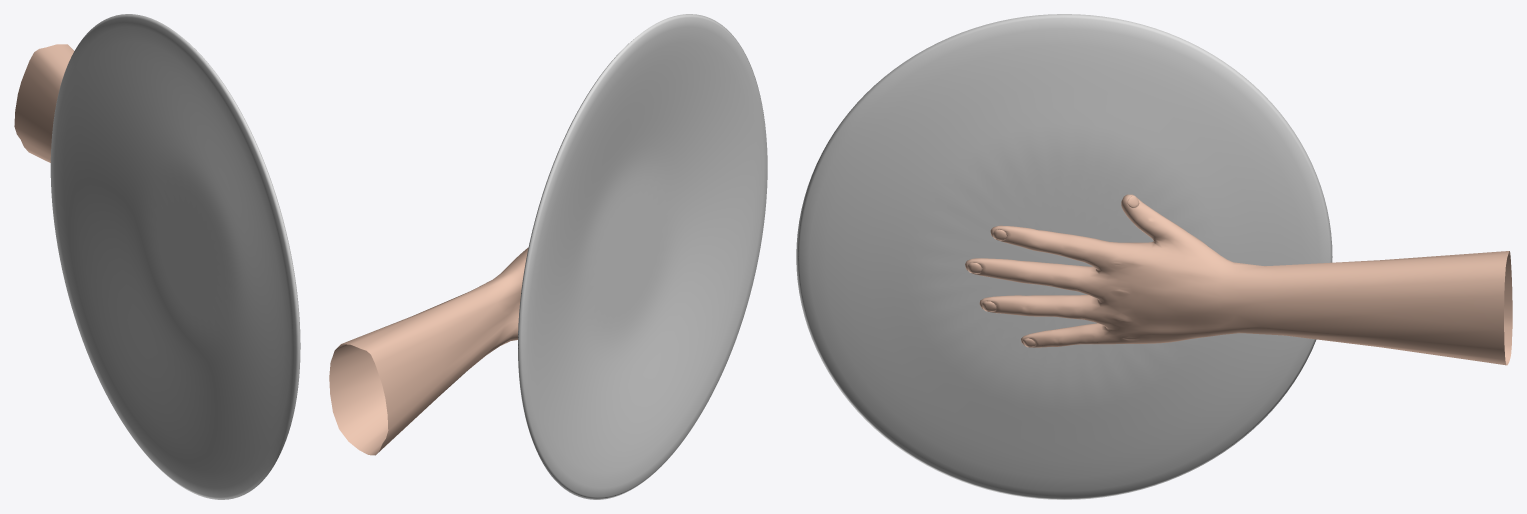
Rendered from Hand_2.fbx.
3 views of the same model, side by side, from view 1: azimuth 30°, elevation 25°; view 2: azimuth 150°, elevation 25°; view 3: azimuth 270°, elevation 25° (orthographic). The views are drawn at different scales.
Parts seen in each view (by area): view 1: Cylinder; view 2: Cylinder; view 3: Cylinder.
Boxes of the visible parts, box(x1,y1,x2,y2) form: Cylinder: box(14, 14, 300, 499); Cylinder: box(329, 14, 767, 499); Cylinder: box(796, 14, 1512, 499).
Bounding box in the file's own units: 184 × 705 × 942.
